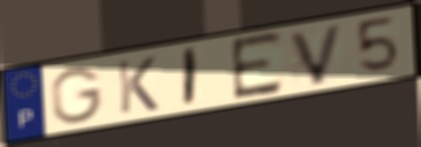5: (352, 14, 402, 76)
E: (228, 28, 285, 104)
G: (48, 65, 106, 126)
I: (180, 44, 200, 110)
K: (114, 54, 161, 116)
V: (286, 21, 346, 88)
